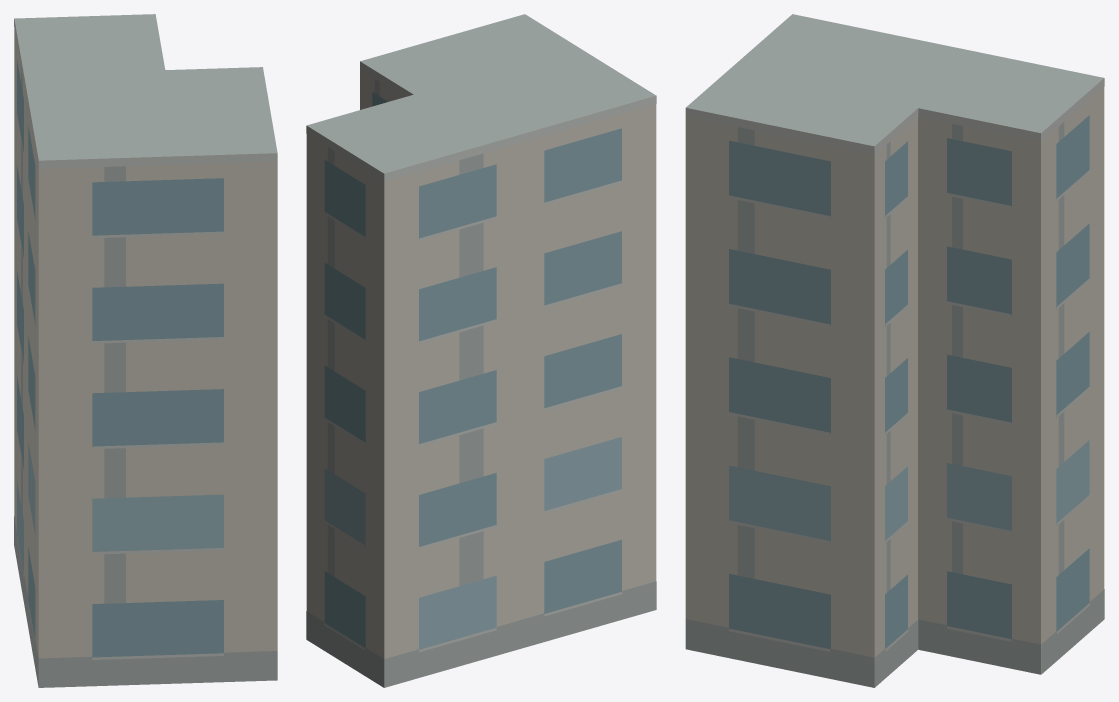
File: residential-6880a260-a79d-48b9-bb52-955cfb85b2ab.glb
3 views of the same model, side by side, from view 1: azimuth 30°, elevation 25°; view 2: azimuth 150°, elevation 25°; view 3: azimuth 270°, elevation 25° (orthographic). The views are drawn at different scales.
Visible parts, largest first — view 1: residential-6880a260-a79d-48b9-bb52-955cfb85b2ab.tmp; view 2: residential-6880a260-a79d-48b9-bb52-955cfb85b2ab.tmp; view 3: residential-6880a260-a79d-48b9-bb52-955cfb85b2ab.tmp.
Part boxes in pixels (bbox=[...]): residential-6880a260-a79d-48b9-bb52-955cfb85b2ab.tmp: bbox=[14, 14, 277, 687]; residential-6880a260-a79d-48b9-bb52-955cfb85b2ab.tmp: bbox=[306, 14, 656, 687]; residential-6880a260-a79d-48b9-bb52-955cfb85b2ab.tmp: bbox=[685, 14, 1104, 687].
Size of the model in its own units: 8 by 15.25 by 10.7.
